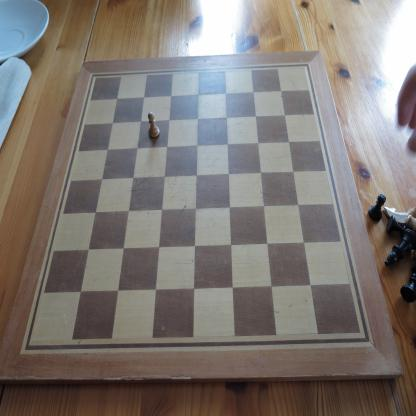black-bishop: (384, 228, 415, 268)
black-pawn: (368, 193, 386, 221), (400, 272, 415, 304)
white-knight: (382, 206, 415, 234)
white-pawn: (148, 112, 160, 138)
